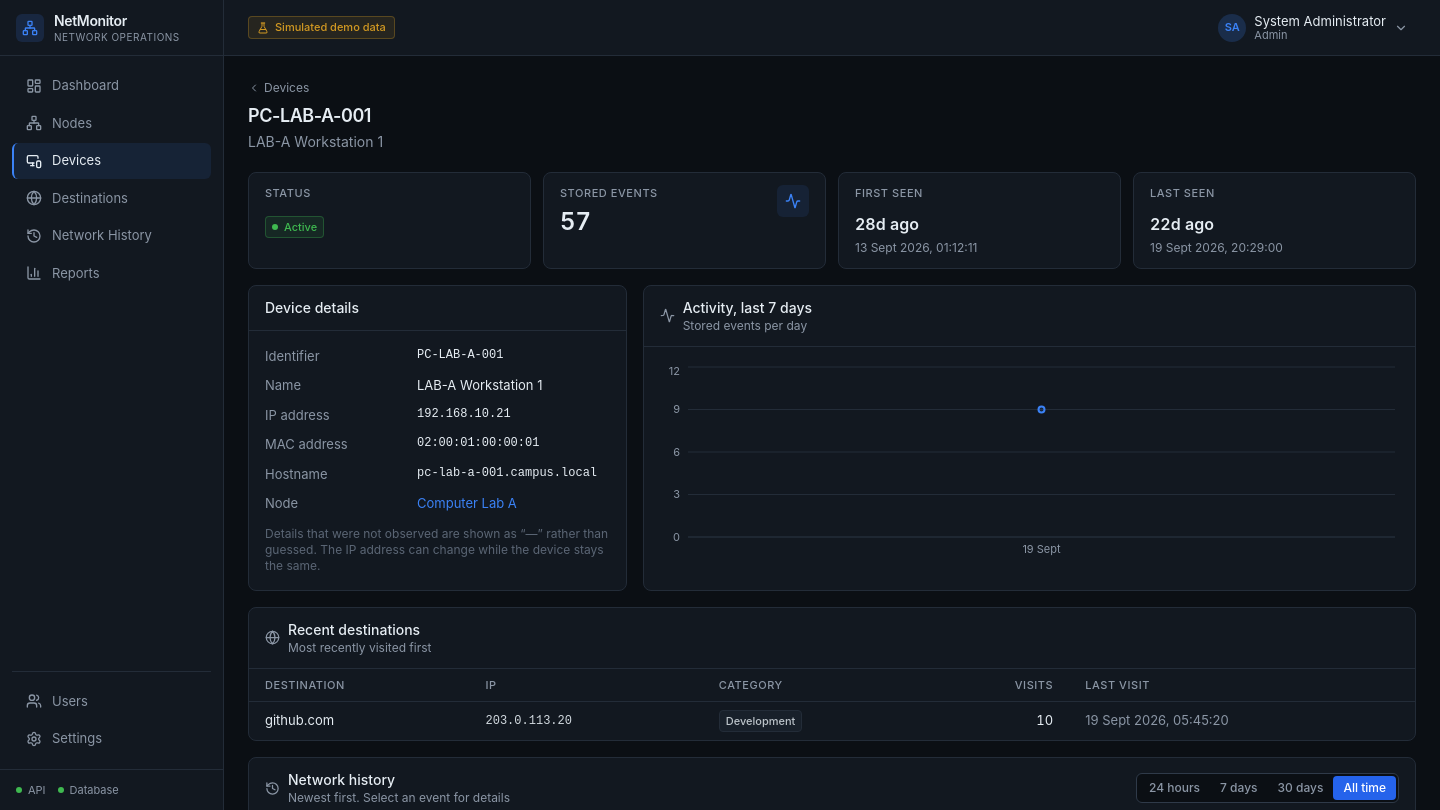
Scenario: DeviceDetailPage › explains an empty history differently for "all time" and a narrower range
The image size is (1440, 810).
Click the button "24 hours" at point(1175, 788), box [1139,776,1210,800]
(page scrolled)
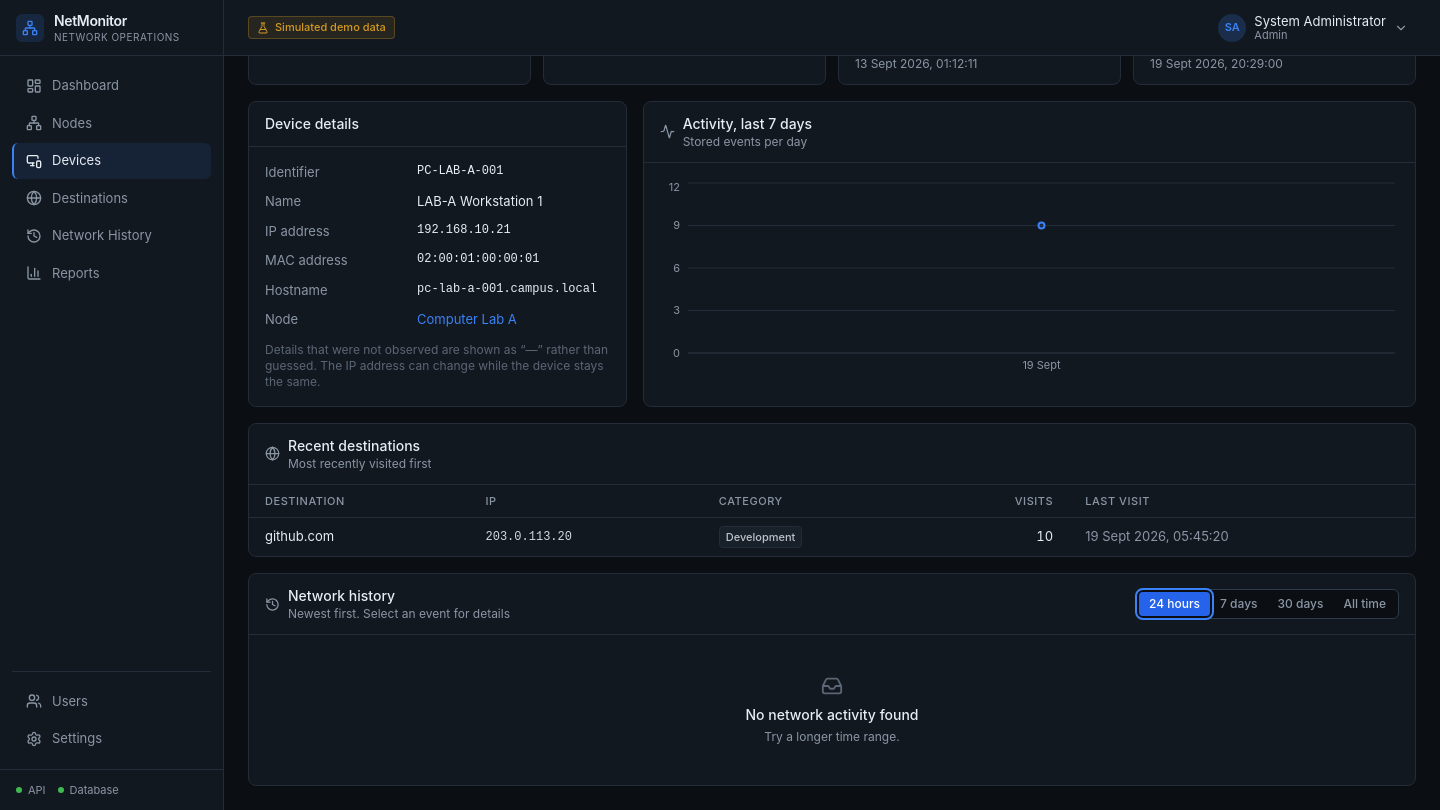
Check: the text "Try a longer time range." is shown, box [764,729,900,745]
